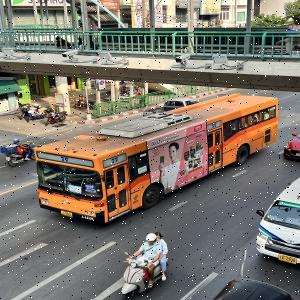BMTA-bus: (33, 91, 279, 225)
Bus Line Number: (58, 153, 71, 162), (109, 156, 121, 164)
Bus Side Number: (79, 214, 96, 220)
Destination Sign: (84, 185, 96, 193)
